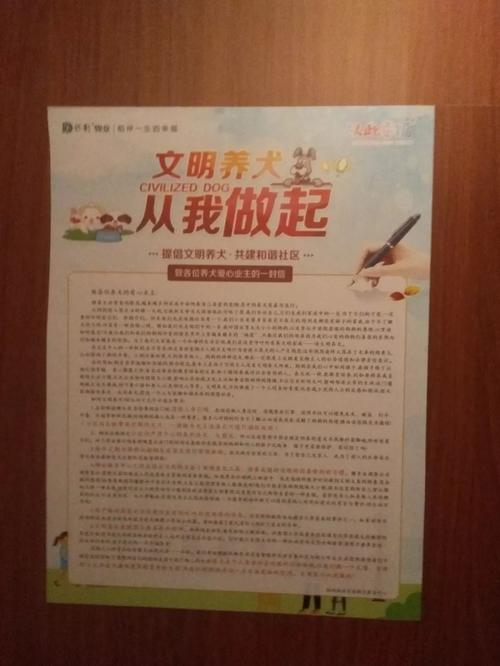bill: (45, 105, 431, 625)
